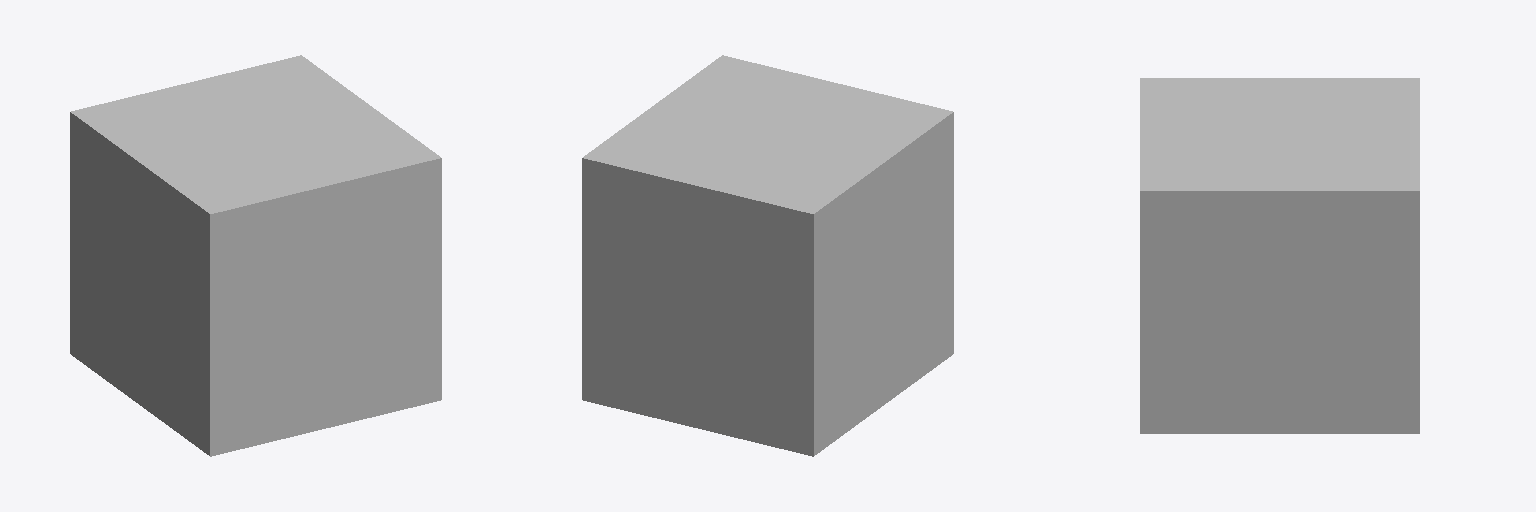
Rendered from ground.obj.
3 renders of one model, left to right at view 1: azimuth 30°, elevation 25°; view 2: azimuth 150°, elevation 25°; view 3: azimuth 270°, elevation 25°, orthographic.
Visible parts, largest first — view 1: object 1; view 2: object 1; view 3: object 1.
Boxes of the visible parts, box(x1,y1,x2,y2) form: object 1: box(70, 55, 441, 456); object 1: box(582, 55, 953, 456); object 1: box(1140, 78, 1419, 433).
Bounding box in the file's own units: 20 × 20 × 21.